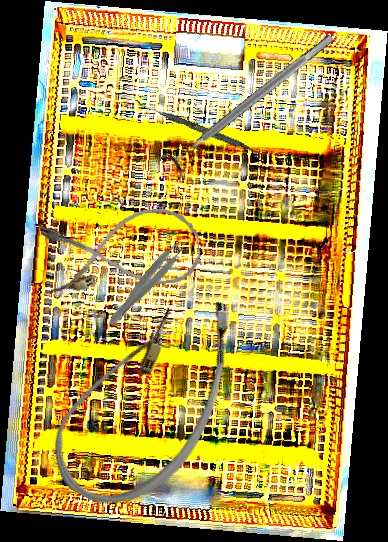Cannula: (34, 261, 260, 532), (39, 205, 203, 296)
Fixation Ring: (158, 24, 343, 182)
Spatula Surgical: (132, 99, 270, 159)
Tissue Forceps: (104, 235, 193, 332)
